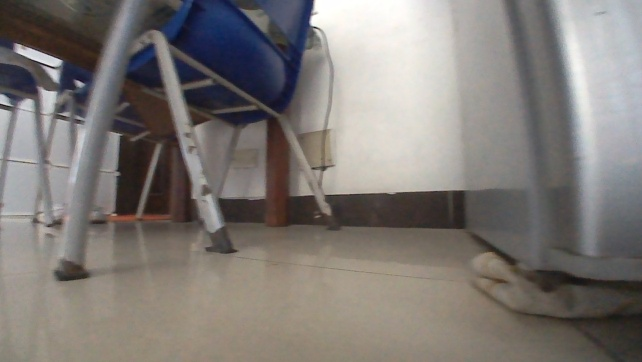dining_table1: (0, 0, 344, 283)
wire: (308, 24, 337, 190)
